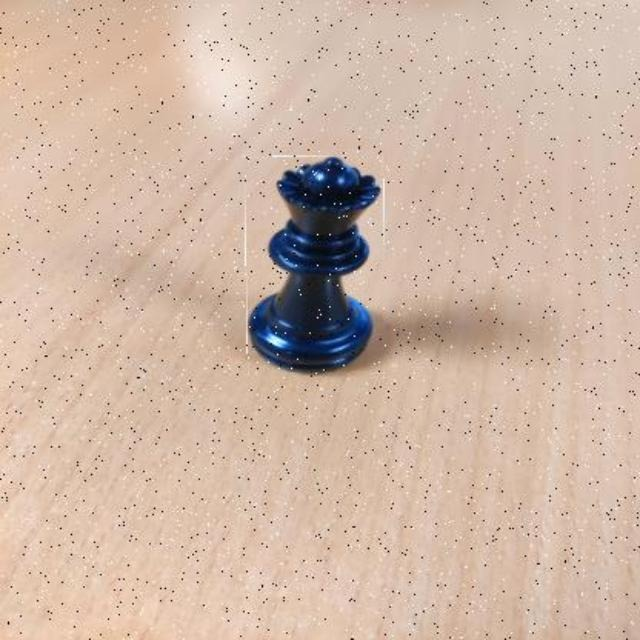black-queen: (246, 157, 386, 375)
